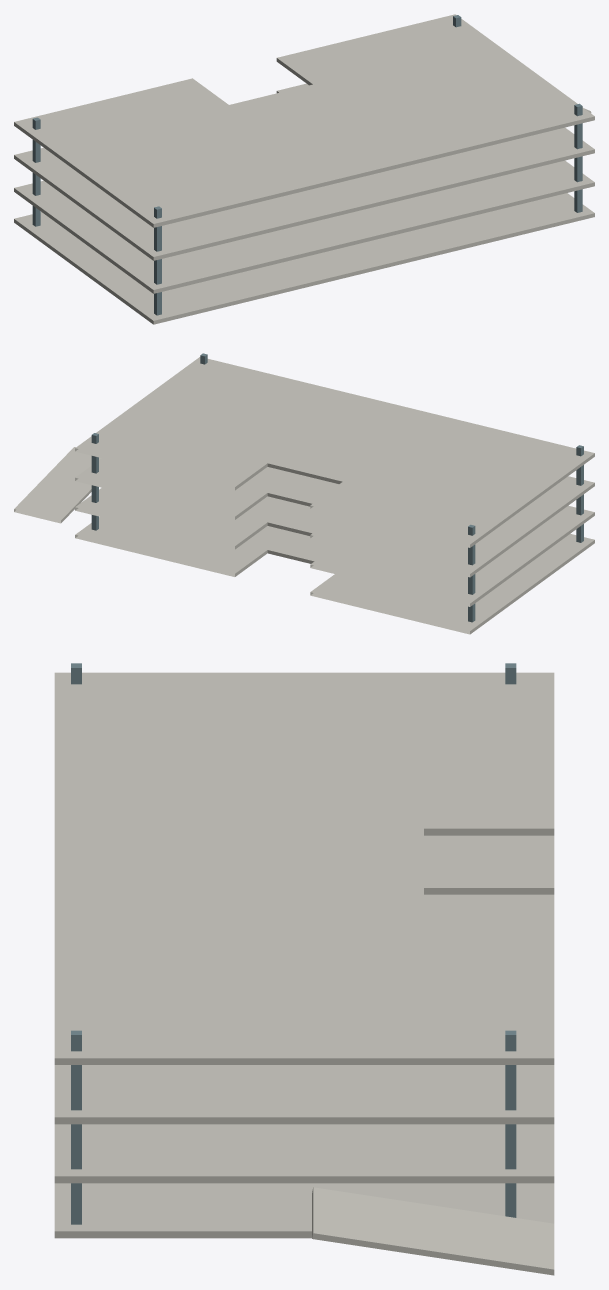
Rendered from urban-0-2.glb.
3 views of the same model, one above another, from view 1: azimuth 30°, elevation 25°; view 2: azimuth 150°, elevation 25°; view 3: azimuth 270°, elevation 25° (orthographic). The views are drawn at different scales.
Parts seen in each view (by area): view 1: urban-0-2; view 2: urban-0-2; view 3: urban-0-2.
Part boxes in pixels (x1,y1,x2,y2): urban-0-2: (14,14,594,324); urban-0-2: (14,353,594,634); urban-0-2: (54,663,554,1275).
Bounding box in the file's own units: 97 × 20 × 46.
